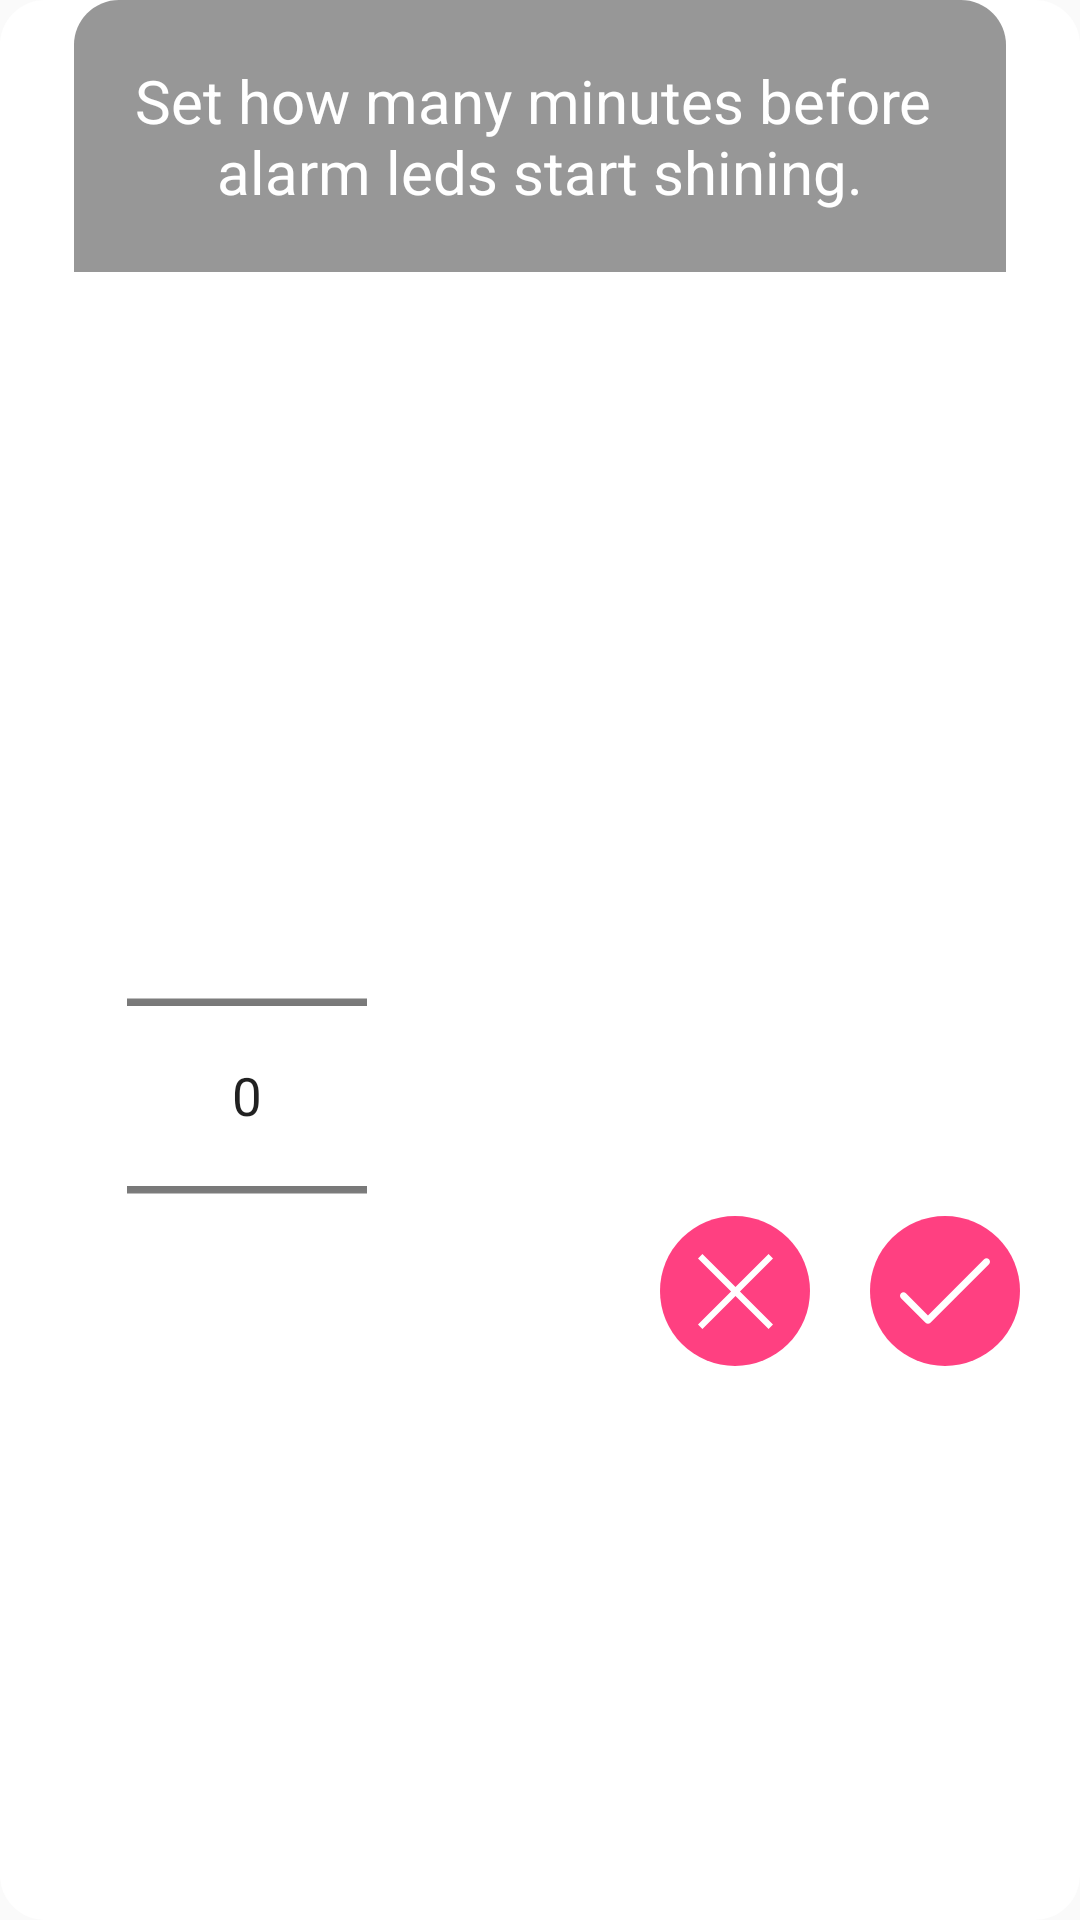

Locate icon controls on the screen. Image size 1080x1920, boxes as {"left": x1, "top": y1, "right": x2, "bottom": y2}.
close: {"left": 660, "top": 1216, "right": 810, "bottom": 1366}
tick: {"left": 870, "top": 1216, "right": 1020, "bottom": 1366}
